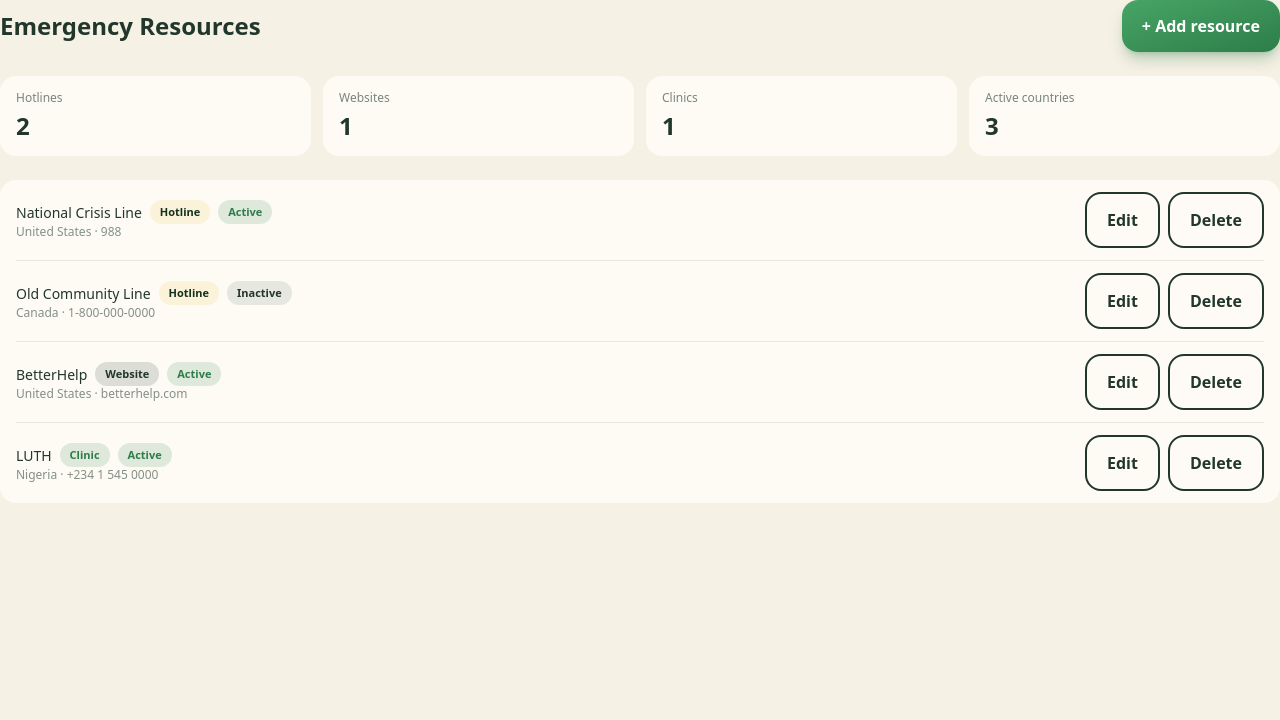
Test case: AdminEmergencyPage › opening the sheet › opens AdminEmergencyResourceSheet pre-filled with the clicked row when Edit is clicked
This screenshot has width=1280, height=720.
Row index 1 is "Old Community Line" (id 2): inactive, HOTLINE, Canada.
Click the button "Edit" in the row of "Inactive": (1122, 301) [1085,273,1160,329]
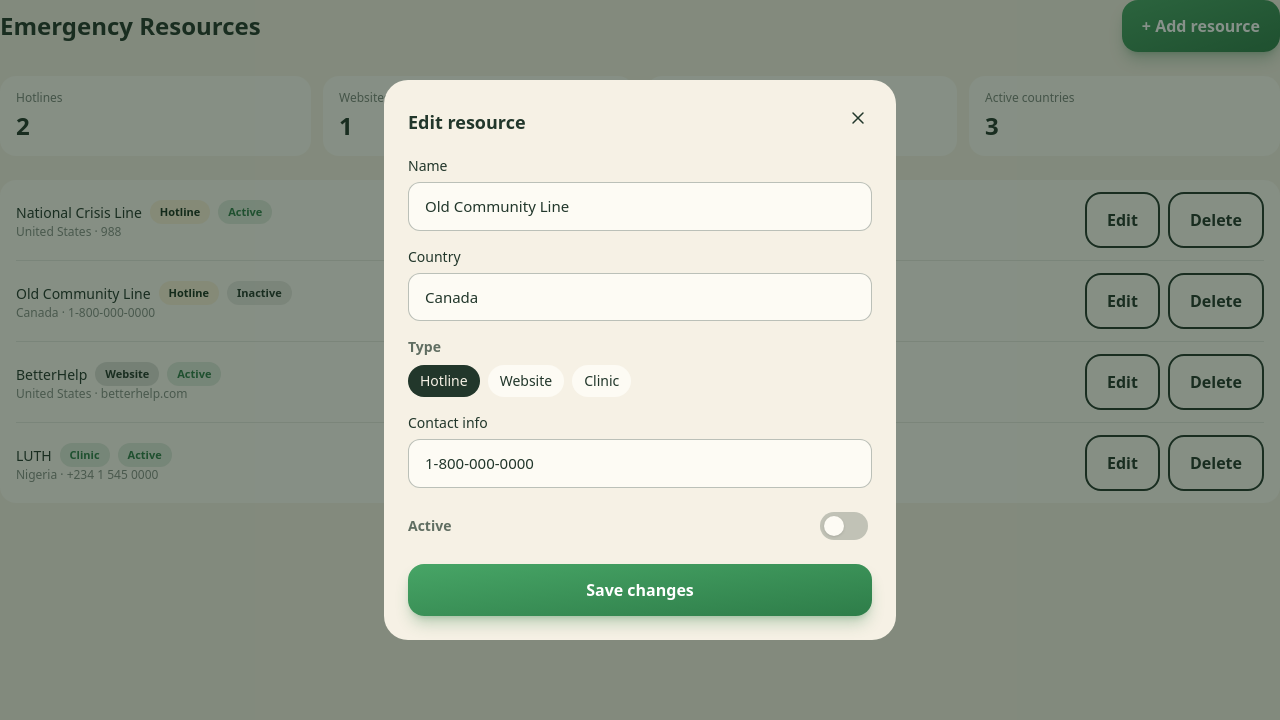
Result: the dialog "Edit resource" is shown at [384,80,896,640]
Result: the field labelled "Name" holds "Old Community Line" at [408,182,872,231]
Result: the field labelled "Country" holds "Canada" at [408,273,872,321]
